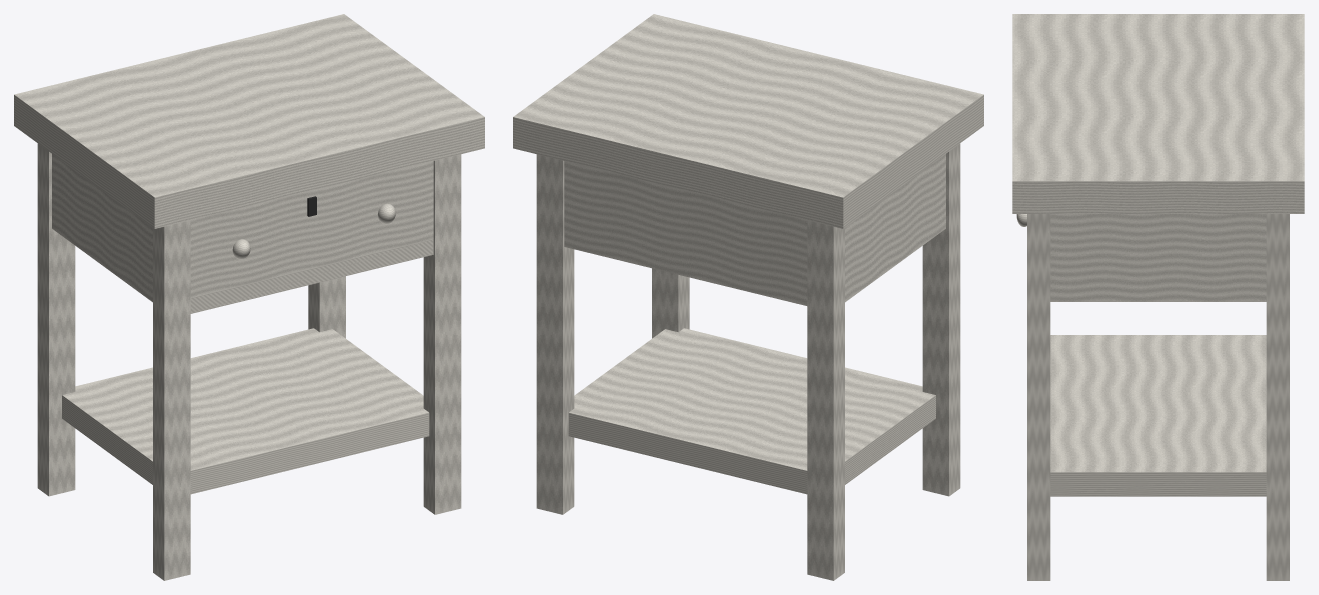
The picture shows the model from 3 angles, left to right: view 1: azimuth 30°, elevation 25°; view 2: azimuth 150°, elevation 25°; view 3: azimuth 270°, elevation 25°; orthographic projection. The views are drawn at different scales.
Parts seen in each view (by area): view 1: 1 top_panel, 14 lower_shelf, 9 drawer_front, 2 leg_front_left, 3 leg_front_right, 4 leg_back_left, 6 side_panel_left, 10 drawer_rail_bottom, 5 leg_back_right; view 2: 1 top_panel, 14 lower_shelf, 8 back_panel_upper, 4 leg_back_left, 5 leg_back_right, 2 leg_front_left, 6 side_panel_left, 3 leg_front_right; view 3: 1 top_panel, 14 lower_shelf, 7 side_panel_right, 3 leg_front_right, 5 leg_back_right.
Boxes of the visible parts, <box> form: 1 top_panel: <box>14,14,484,228</box>; 14 lower_shelf: <box>62,328,429,494</box>; 9 drawer_front: <box>190,161,433,298</box>; 2 leg_front_left: <box>153,220,190,580</box>; 3 leg_front_right: <box>423,154,461,514</box>; 4 leg_back_left: <box>37,143,75,496</box>; 6 side_panel_left: <box>52,154,152,302</box>; 10 drawer_rail_bottom: <box>190,239,433,313</box>; 5 leg_back_right: <box>308,276,345,338</box>; 1 top_panel: <box>513,14,983,228</box>; 14 lower_shelf: <box>568,328,935,494</box>; 8 back_panel_upper: <box>564,161,807,305</box>; 4 leg_back_left: <box>807,220,844,580</box>; 5 leg_back_right: <box>536,154,574,514</box>; 2 leg_front_left: <box>922,143,960,496</box>; 6 side_panel_left: <box>845,154,945,302</box>; 3 leg_front_right: <box>652,268,689,338</box>; 1 top_panel: <box>1012,14,1304,213</box>; 14 lower_shelf: <box>1050,335,1266,496</box>; 7 side_panel_right: <box>1050,214,1266,301</box>; 3 leg_front_right: <box>1027,214,1050,580</box>; 5 leg_back_right: <box>1266,214,1289,580</box>.
Size of the model in its own units: 0.88 by 1 by 0.65.
Materials: 2 (1 with a texture image).
